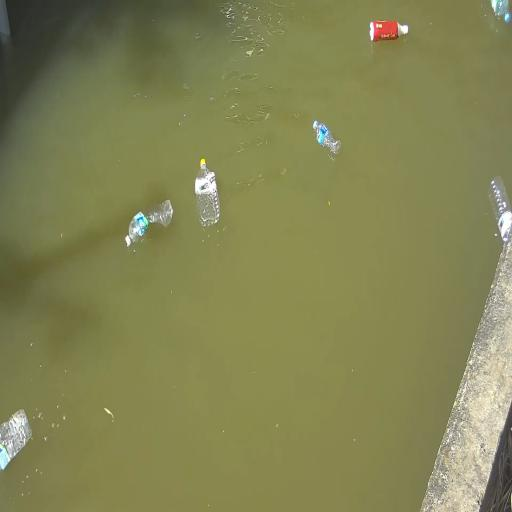plastic: (126, 200, 173, 246), (0, 410, 31, 470), (195, 159, 219, 226), (490, 176, 511, 243), (313, 120, 340, 154), (370, 19, 409, 42)
